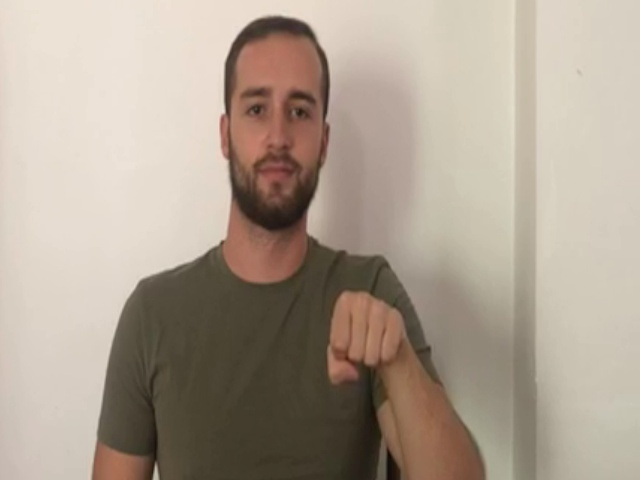Da: (322, 287, 406, 387)
